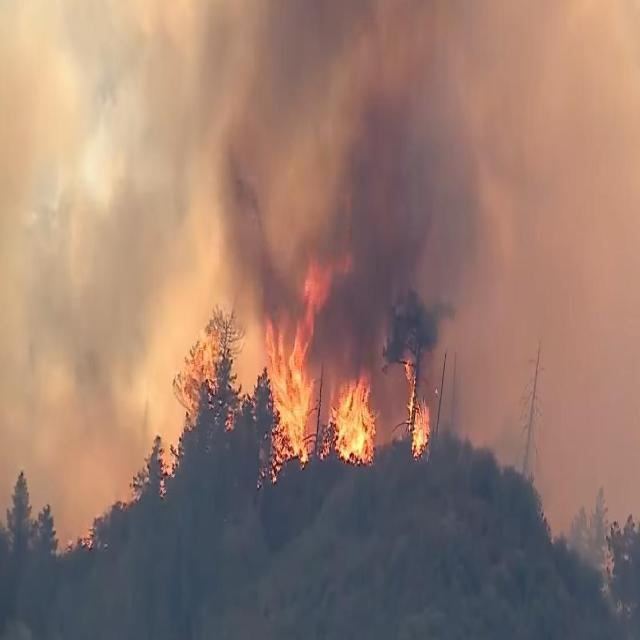Fire: (264, 324, 312, 480), (322, 372, 380, 469), (183, 324, 218, 428), (406, 361, 432, 463), (298, 258, 352, 304), (300, 264, 316, 360), (225, 408, 237, 431)
Smoke: (0, 0, 351, 257), (516, 0, 640, 515), (428, 0, 515, 457), (0, 254, 148, 478), (351, 0, 423, 298), (174, 248, 298, 324), (148, 252, 178, 435), (312, 301, 382, 370), (55, 479, 93, 532), (380, 364, 405, 439)
